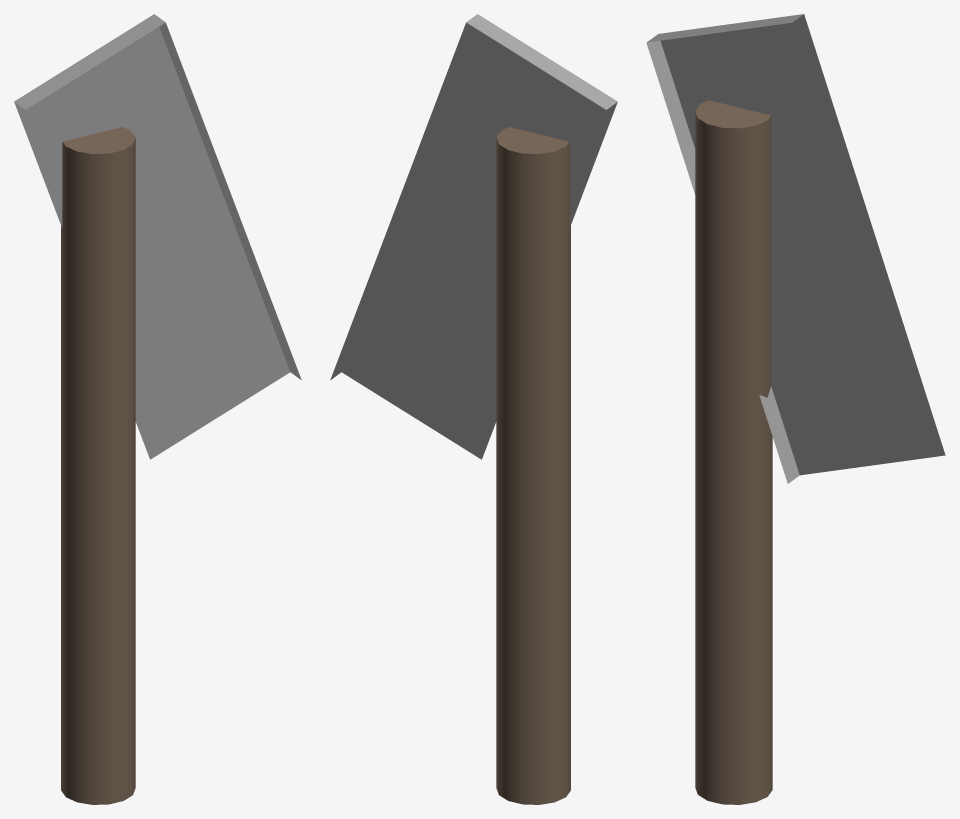
Rendered from thrown_hatchets_static.glb.
The picture shows the model from 3 angles, left to right: view 1: azimuth 30°, elevation 25°; view 2: azimuth 150°, elevation 25°; view 3: azimuth 330°, elevation 25°; orthographic projection. The views are drawn at different scales.
Parts seen in each view (by area): view 1: thrown_hatchets; view 2: thrown_hatchets; view 3: thrown_hatchets.
Part boxes in pixels (box(x1,y1,x2,y2)): thrown_hatchets: box(14, 14, 301, 804); thrown_hatchets: box(330, 14, 617, 804); thrown_hatchets: box(646, 14, 945, 804).
Size of the model in its own units: 0.1111 by 0.2904 by 0.0254.
